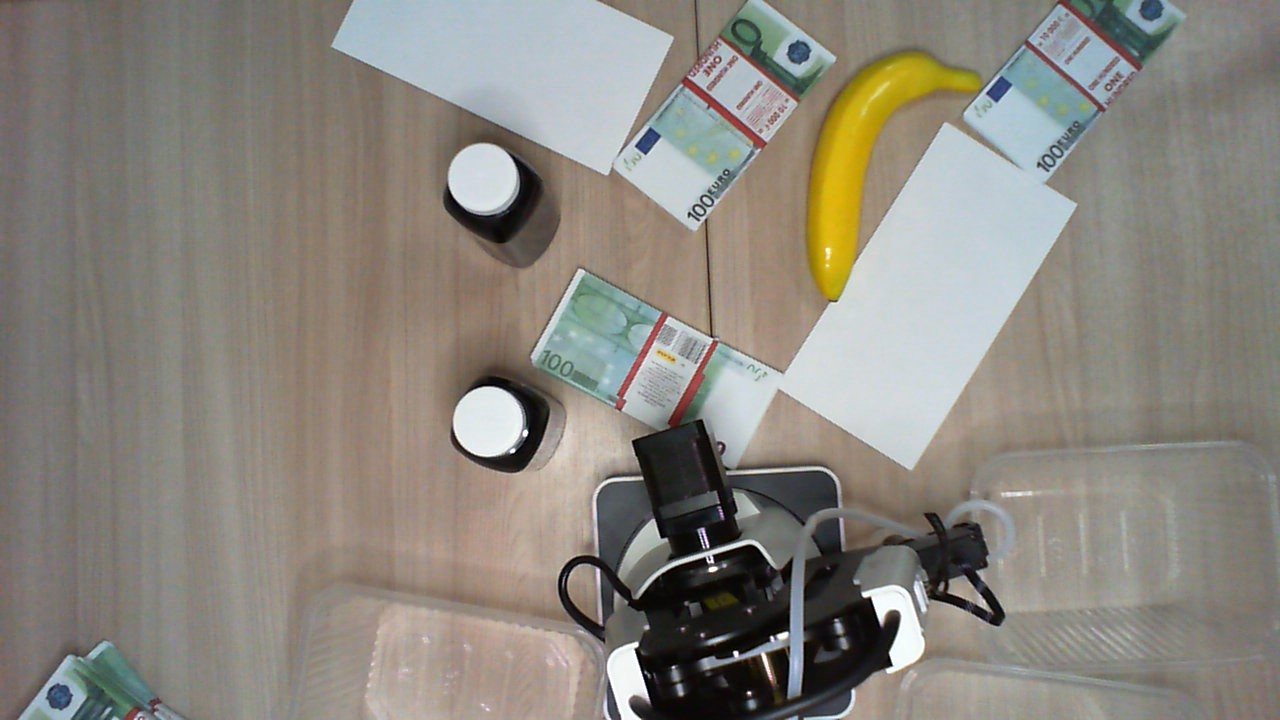banana: (790, 39, 987, 314)
bottle: (446, 141, 543, 251), (450, 371, 551, 468)
convert: (780, 118, 1077, 470), (323, 5, 676, 181)
money: (532, 269, 783, 469), (620, 1, 838, 226), (963, 1, 1183, 177), (9, 632, 222, 720)
